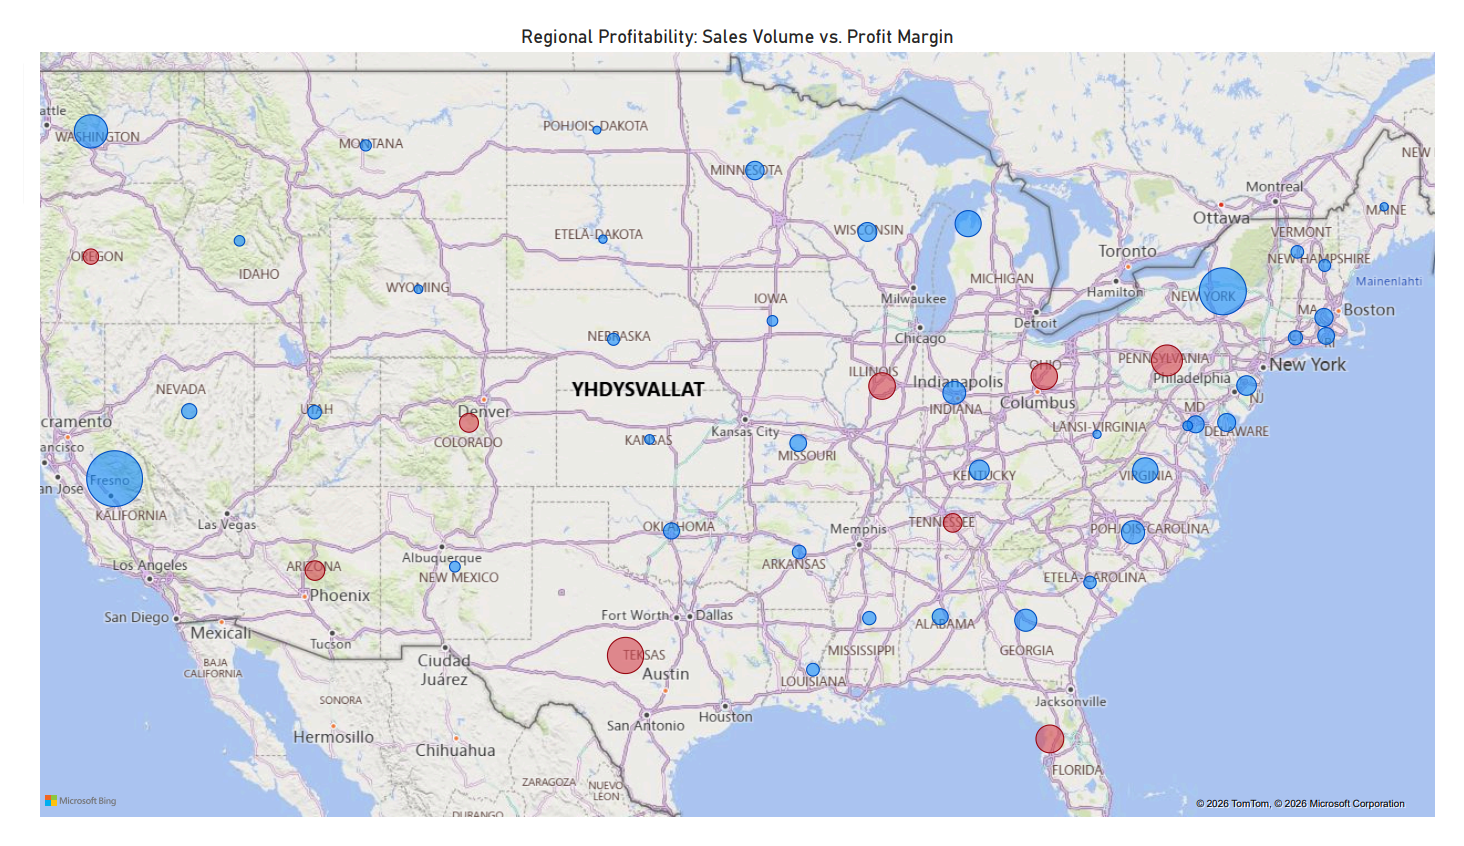

The page's visual inventory and layout, read from the dashboard file:
{"tool":"powerbi","page":{"name":"Regional Profitability","canvas":[1280,720],"ordinal":2},"visuals":[{"type":"map","title":"Regional Profitability: Sales Volume vs. Profit Margin","fields":{"Category":["sales_processed.State"],"Size":["Sum(sales_processed.Sales)"]},"box":[9.7,0,1270.3,719.8],"z":0}]}

Visuals, with their boxes in screenshot pixels (x1, y1, x2, y2), scaled from the page's 1280x720 canvas onto the 1464x846 screenshot:
"Regional Profitability: Sales Volume vs. Profit Margin" map: [11, 0, 1463, 845]
